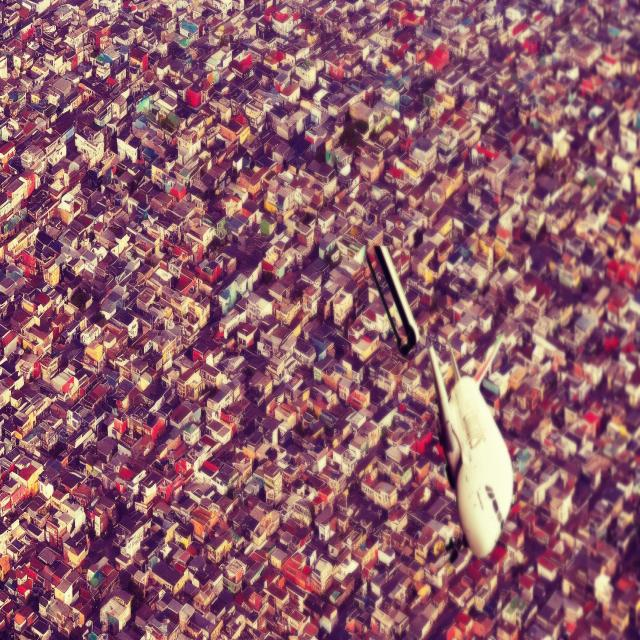airplane: (369, 241, 514, 559)
